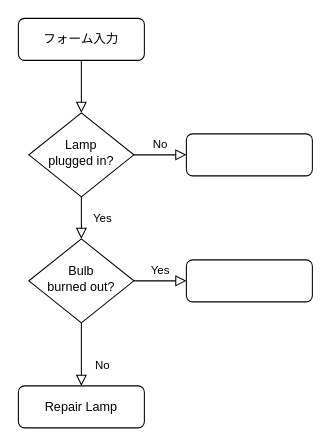
Image size: 331x446. Some labels were removed from this diagram. Each missing label, with the centre of its shape:
Plug in lamp: (x=248, y=154)
Replace Bulb: (x=248, y=280)
